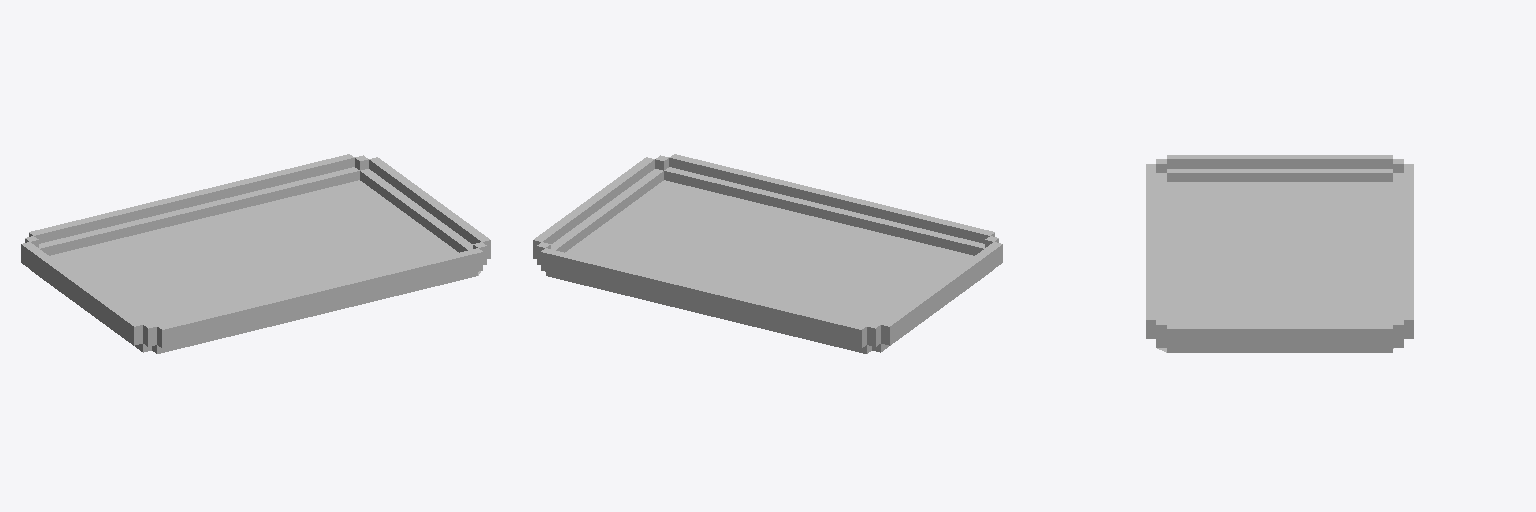
Rendered from Baking Tray Final.obj.
3 renders of one model, left to right at view 1: azimuth 30°, elevation 25°; view 2: azimuth 150°, elevation 25°; view 3: azimuth 270°, elevation 25°, orthographic.
Visible parts, largest first — view 1: Polygon; view 2: Polygon; view 3: Polygon.
Boxes of the visible parts, box(x1,y1,x2,y2) form: Polygon: box(21, 154, 490, 353); Polygon: box(533, 154, 1002, 353); Polygon: box(1146, 155, 1413, 352).
Size of the model in its own units: 4 by 0.3 by 2.6.